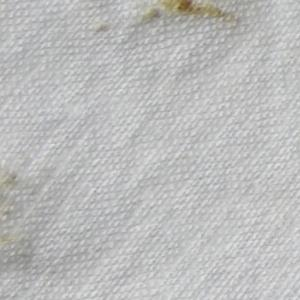Oil Stain: (89, 1, 252, 42)
Stain: (1, 165, 32, 252)
